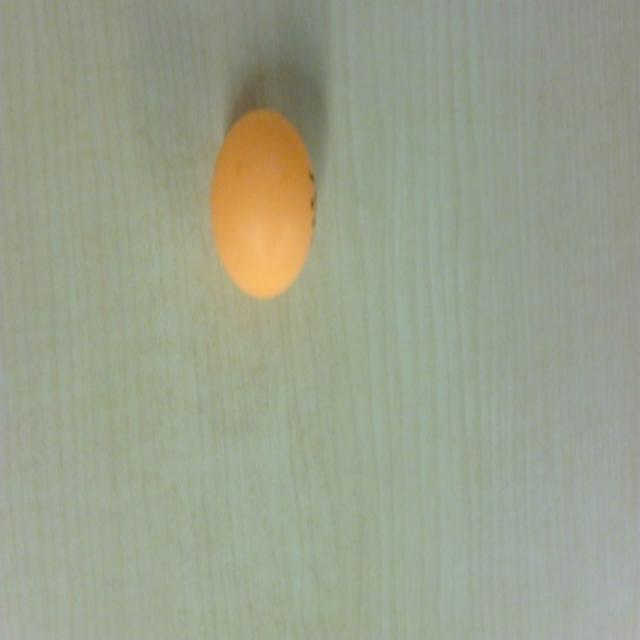ball: (209, 109, 317, 307)
